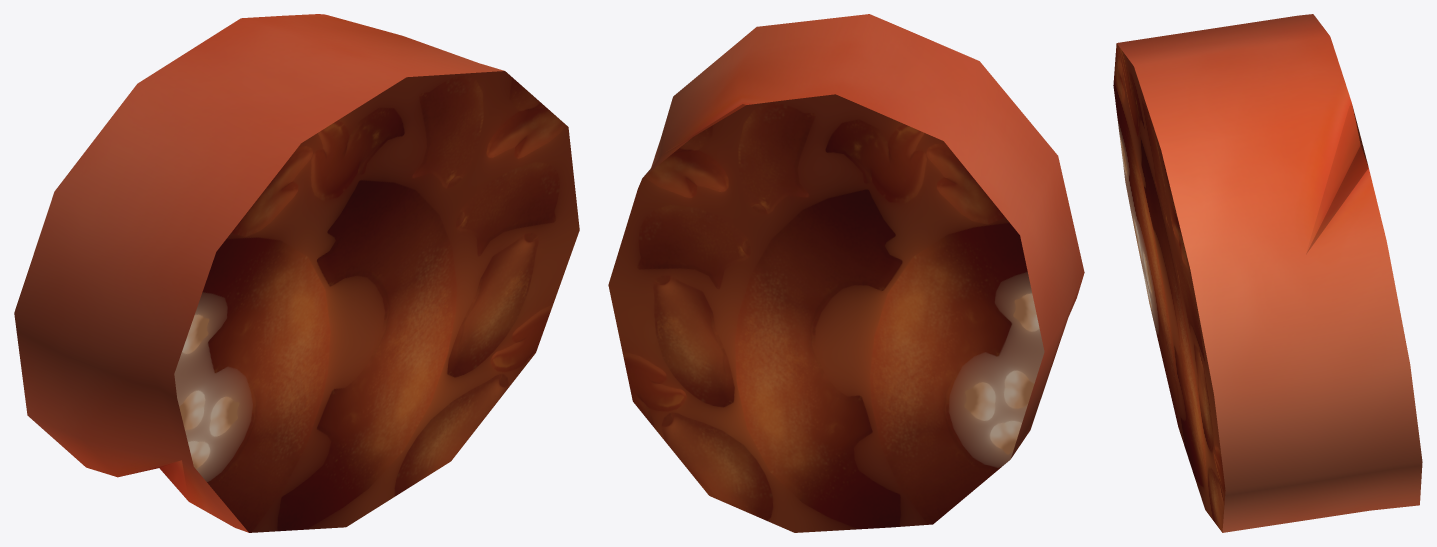
File: Sausage03.fbx
The picture shows the model from 3 angles, left to right: view 1: azimuth 30°, elevation 25°; view 2: azimuth 150°, elevation 25°; view 3: azimuth 270°, elevation 25°; orthographic projection. The views are drawn at different scales.
Parts seen in each view (by area): view 1: Sausage03; view 2: Sausage03; view 3: Sausage03.
Part boxes in pixels (x1=…): Sausage03: x1=14, y1=14, x2=579, y2=532; Sausage03: x1=608, y1=14, x2=1084, y2=532; Sausage03: x1=1113, y1=14, x2=1422, y2=532.
Size of the model in its own units: 0.1356 by 0.12 by 0.074.
